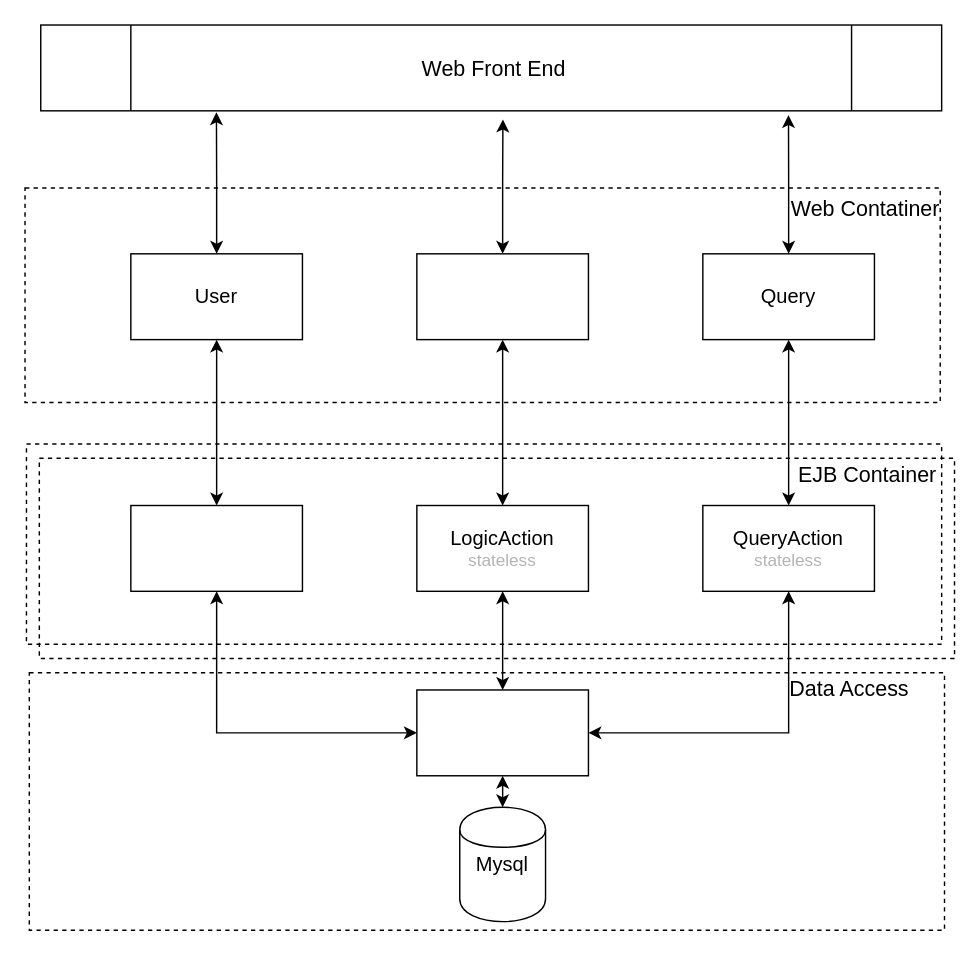
This 980x955 diagram has some shape labels left out. The centre of each missing label's shape, as x and y in pixels:
DataManager stateless: the point at 501,732
Logic: the point at 501,296
UserAction stateless: the point at 215,547
